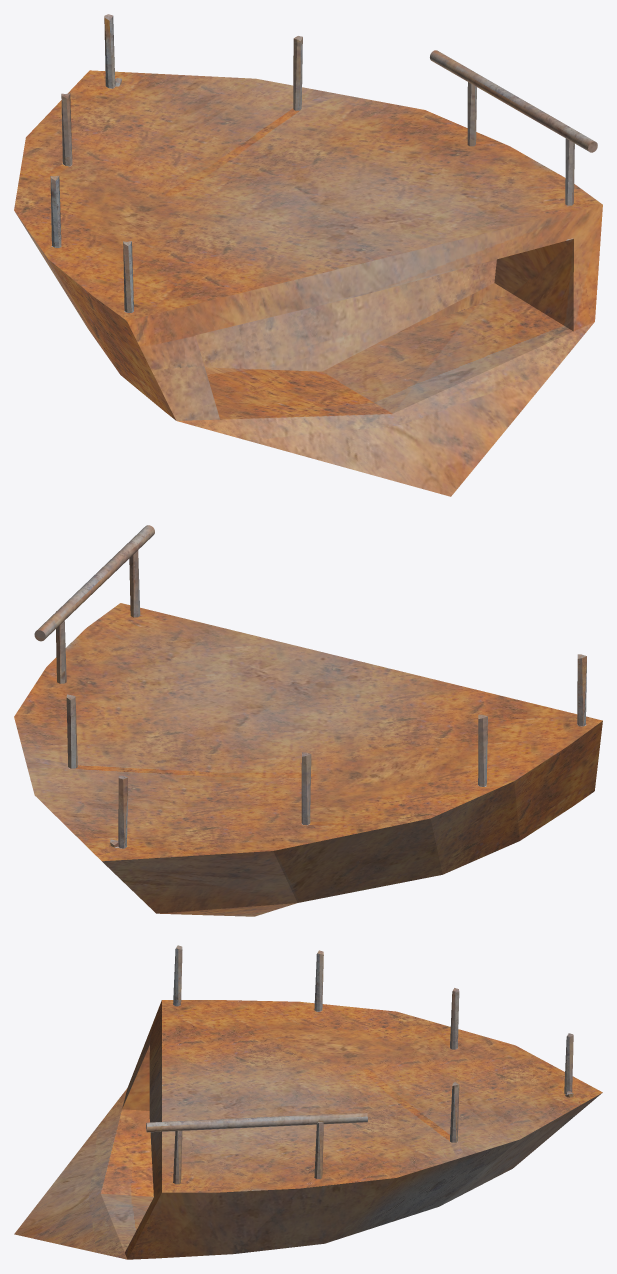
Rendered from boat.fbx.
The picture shows the model from 3 angles, top to bottom: view 1: azimuth 30°, elevation 25°; view 2: azimuth 150°, elevation 25°; view 3: azimuth 270°, elevation 25°; orthographic projection. The views are drawn at different scales.
Visible parts, largest first — view 1: Cube; view 2: Cube; view 3: Cube.
Part boxes in pixels (left/top/right/bottom): Cube: left=14, top=14, right=602, bottom=496; Cube: left=14, top=525, right=602, bottom=916; Cube: left=14, top=945, right=602, bottom=1259.
Size of the model in its own units: 409 by 199 by 528.
1 material, 1 textured.
